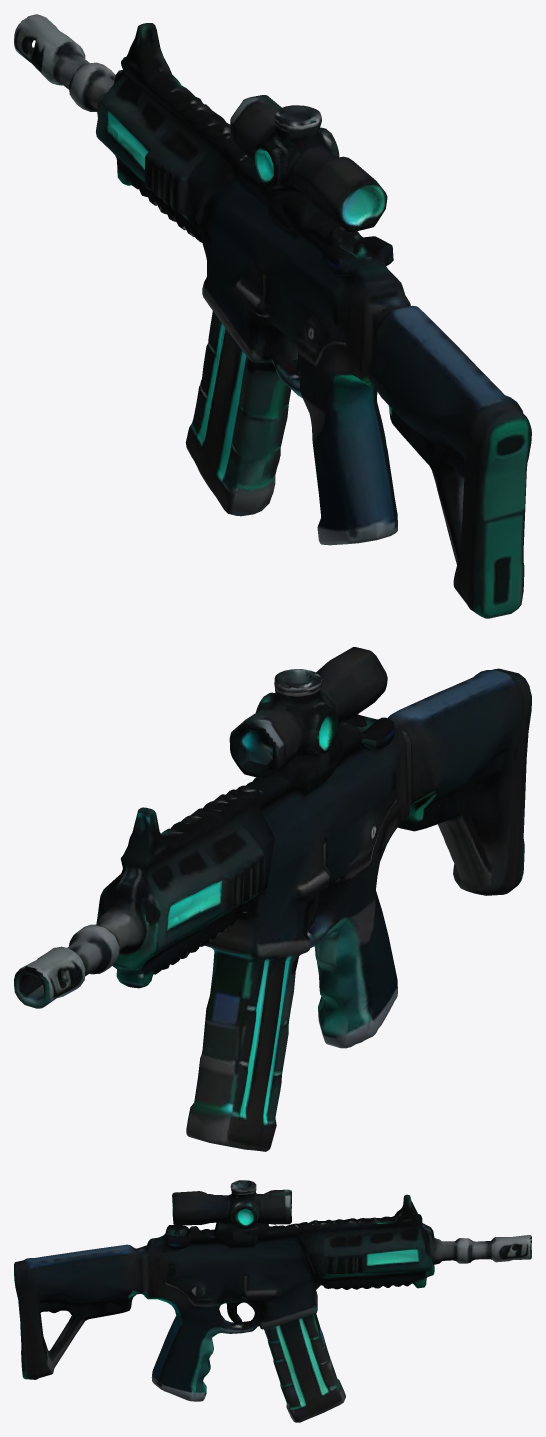
File: rifle.glb
3 renders of one model, top to bottom at view 1: azimuth 30°, elevation 25°; view 2: azimuth 150°, elevation 25°; view 3: azimuth 270°, elevation 25°, orthographic. The views are drawn at different scales.
Parts seen in each view (by area): view 1: texture_pbr_v128; view 2: texture_pbr_v128; view 3: texture_pbr_v128.
Boxes of the visible parts, left/top/right/bottom form: texture_pbr_v128: left=14, top=14, right=531, bottom=618; texture_pbr_v128: left=14, top=647, right=531, bottom=1151; texture_pbr_v128: left=14, top=1180, right=531, bottom=1422.
Bounding box in the file's own units: 0.1233 × 0.5807 × 1.16.
1 material, 1 textured.
